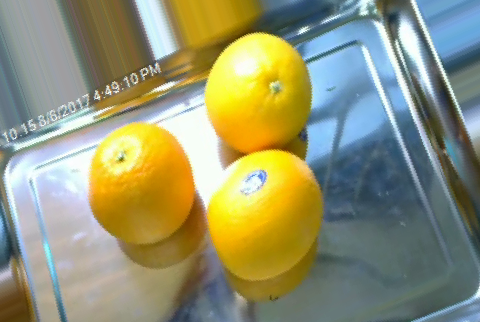Orange: (205, 149, 324, 281), (205, 32, 312, 154), (88, 121, 193, 244)
